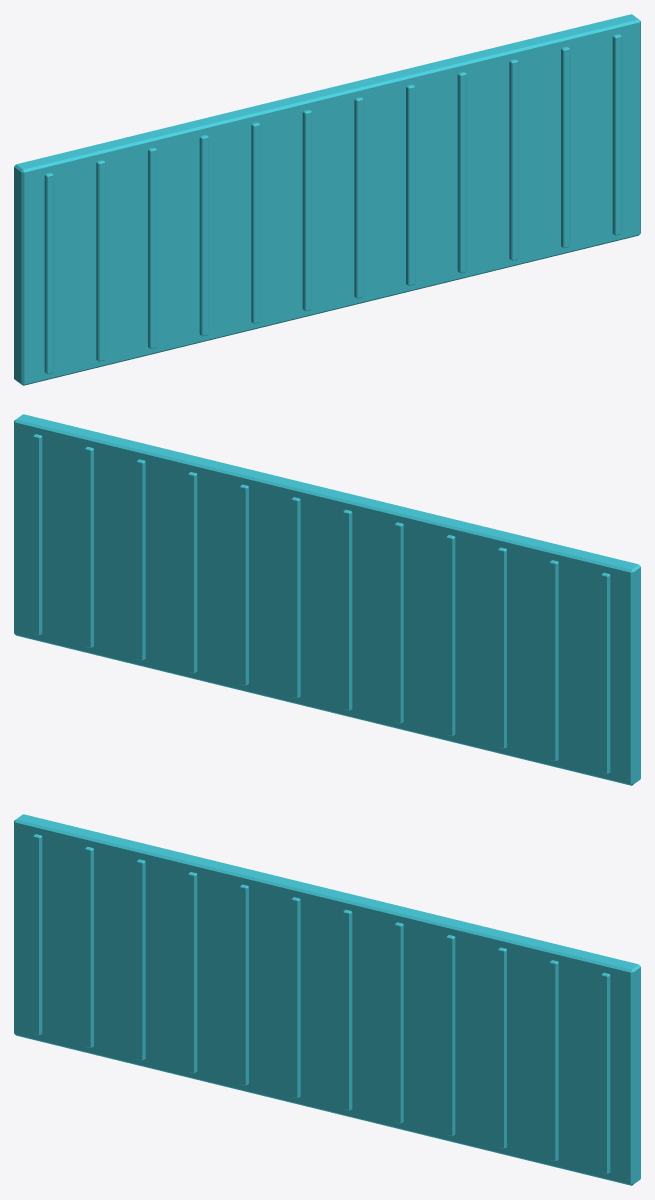
File: radiator_panel_c.glb
3 views of the same model, one above another, from view 1: azimuth 30°, elevation 25°; view 2: azimuth 150°, elevation 25°; view 3: azimuth 330°, elevation 25° (orthographic).
Parts seen in each view (by area): view 1: radiator_panel_c-convcol; view 2: radiator_panel_c-convcol; view 3: radiator_panel_c-convcol.
Boxes of the visible parts, left/top/right/bottom form: radiator_panel_c-convcol: left=14, top=14, right=640, bottom=385; radiator_panel_c-convcol: left=14, top=414, right=640, bottom=785; radiator_panel_c-convcol: left=14, top=814, right=640, bottom=1185.
Bounding box in the file's own units: 3 × 1 × 0.12.
